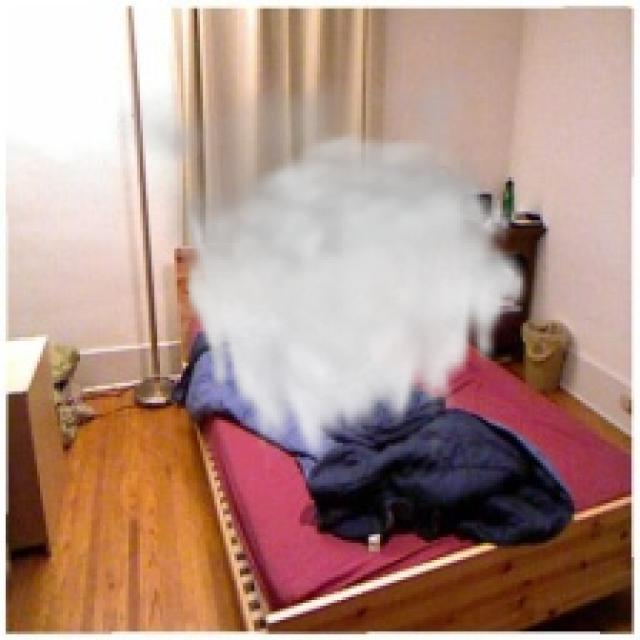Smoke: (109, 51, 532, 468)
